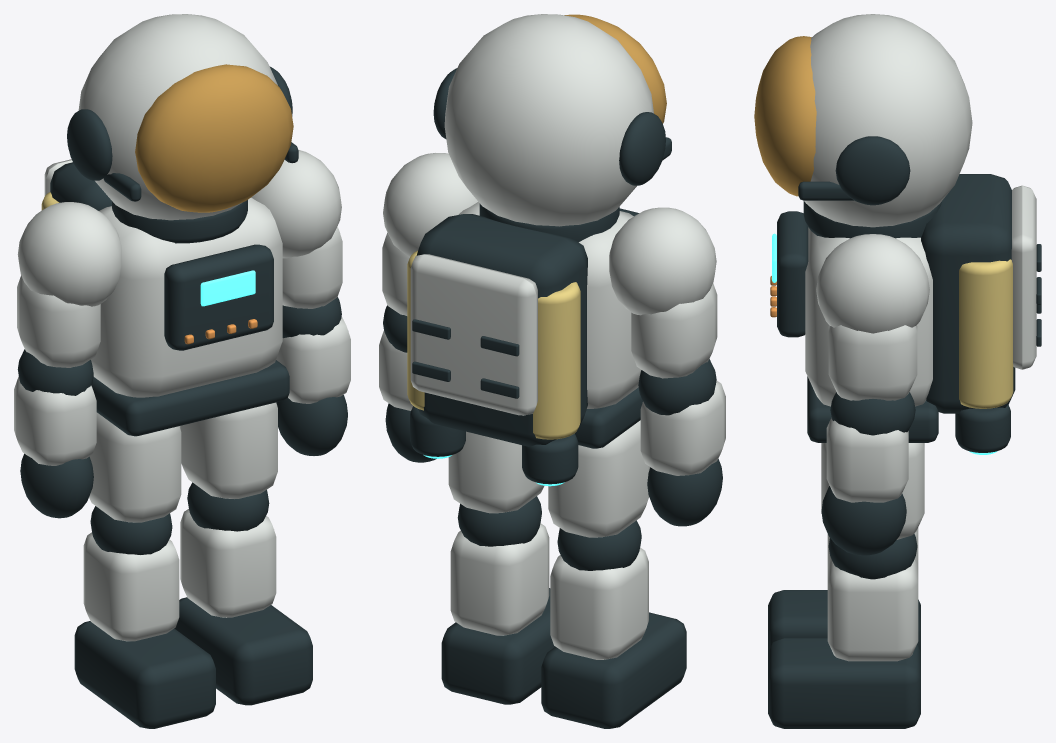
File: explorer.glb
3 views of the same model, side by side, from view 1: azimuth 30°, elevation 25°; view 2: azimuth 150°, elevation 25°; view 3: azimuth 270°, elevation 25° (orthographic). The views are drawn at different scales.
Visible parts, largest first — view 1: Pressure suit, Gold panoramic visor, Helmet ceramic shell, Boot, Boot.001, Shoulder, Shin, Shin.001, Harness chest panel, Thigh, Thigh.001, Hip belt (+16 smaller); view 2: Helmet ceramic shell, Backpack ceramic face, Life support, Boot, Shoulder, Shin.001, Shin, Thigh, Boot.001, Pressure suit, Ion fuel canister, Shoulder.001 (+19 smaller); view 3: Helmet ceramic shell, Boot.001, Life support, Shoulder.001, Shin.001, Ion fuel canister.001, Gold panoramic visor, Upper arm.001, Forearm.001, Pressure suit, Backpack ceramic face, Helmet communication node.001 (+10 smaller).
Boxes of the visible parts, box(x1,y1,x2,y2) form: Pressure suit: box(91, 197, 282, 397); Gold panoramic visor: box(135, 64, 293, 212); Helmet ceramic shell: box(78, 14, 277, 220); Boot: box(74, 621, 215, 728); Boot.001: box(174, 597, 312, 705); Shoulder: box(17, 202, 121, 306); Shin: box(83, 532, 179, 641); Shin.001: box(180, 509, 276, 617); Harness chest panel: box(164, 244, 273, 350); Thigh: box(89, 412, 181, 522); Thigh.001: box(179, 402, 277, 498); Hip belt: box(91, 360, 289, 436); Helmet ceramic shell: box(444, 14, 653, 226); Backpack ceramic face: box(410, 254, 537, 415); Life support: box(416, 214, 587, 446); Boot: box(541, 612, 686, 728); Shoulder: box(609, 207, 716, 315); Shin.001: box(450, 523, 549, 635); Shin: box(550, 547, 648, 659); Thigh: box(548, 420, 650, 537); Boot.001: box(441, 588, 554, 704); Pressure suit: box(458, 201, 641, 408); Ion fuel canister: box(533, 282, 580, 439); Shoulder.001: box(383, 153, 477, 256); Helmet ceramic shell: box(804, 14, 972, 227); Boot.001: box(768, 638, 920, 728); Life support: box(921, 174, 1015, 413); Shoulder.001: box(816, 234, 929, 333); Shin.001: box(827, 559, 918, 661); Ion fuel canister.001: box(959, 259, 1013, 408); Gold panoramic visor: box(754, 36, 816, 196); Upper arm.001: box(828, 325, 917, 400); Forearm.001: box(826, 417, 908, 502); Pressure suit: box(805, 227, 932, 406); Backpack ceramic face: box(1011, 185, 1036, 369); Helmet communication node.001: box(835, 136, 910, 205).
Size of the model in its own units: 1.04 by 2.07 by 0.8085.
